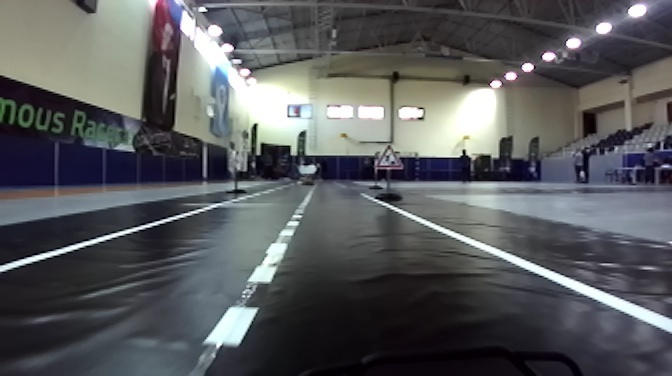yol_yapimi: (370, 141, 407, 172)
